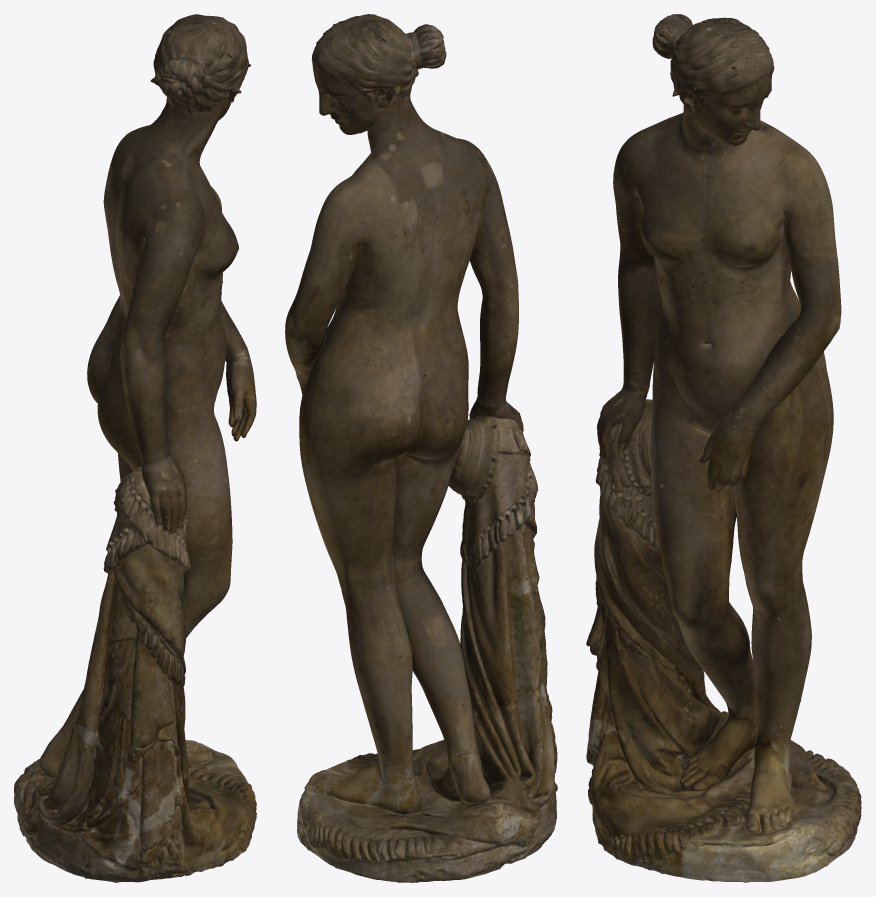
The model's file is l-esclave-grecque.glb.
The picture shows the model from 3 angles, left to right: view 1: azimuth 30°, elevation 25°; view 2: azimuth 150°, elevation 25°; view 3: azimuth 270°, elevation 25°; orthographic projection. The views are drawn at different scales.
Bounding box in the file's own units: 20.07 × 66.25 × 19.7.
1 material, 1 textured.
